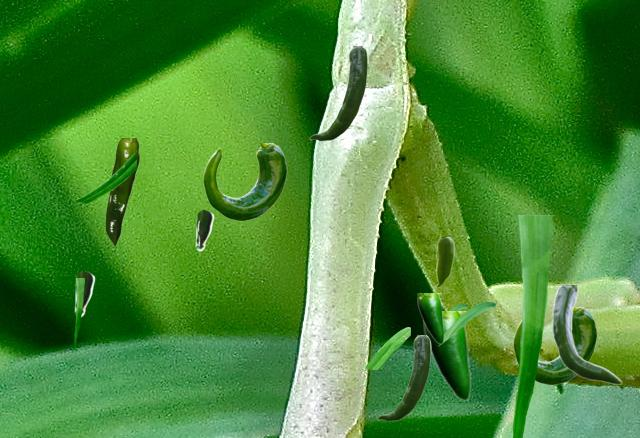green_chili: (552, 285, 621, 383), (513, 307, 596, 383), (203, 143, 286, 219), (309, 46, 367, 140), (377, 335, 430, 420), (423, 311, 470, 400), (105, 138, 138, 245), (417, 293, 443, 343), (433, 237, 453, 287), (73, 270, 94, 316), (194, 209, 213, 250)
